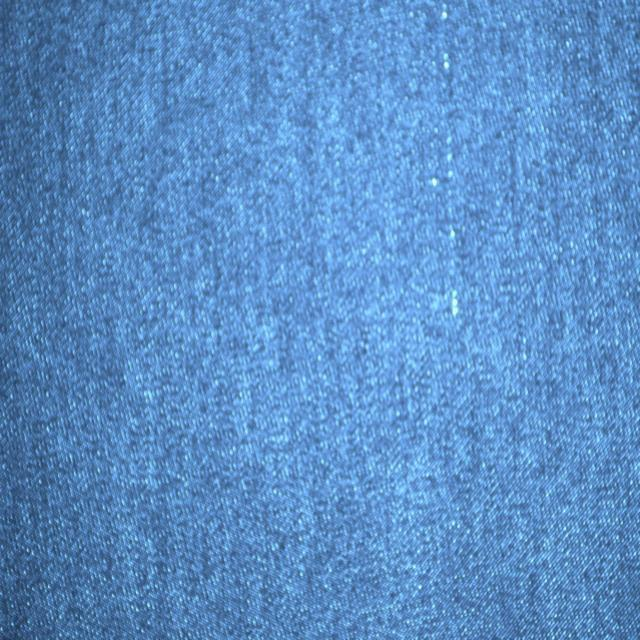pulled_or_thick_thread: (439, 9, 457, 329), (440, 325, 452, 327)
